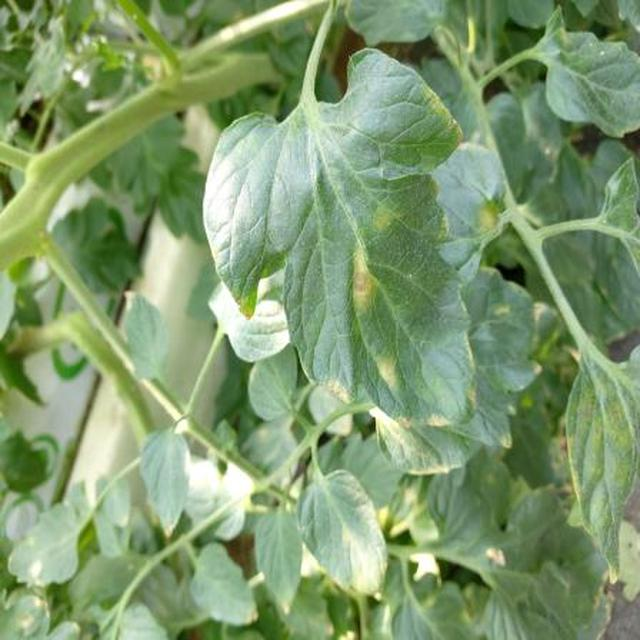Leaf Mold: (134, 188, 488, 640)
